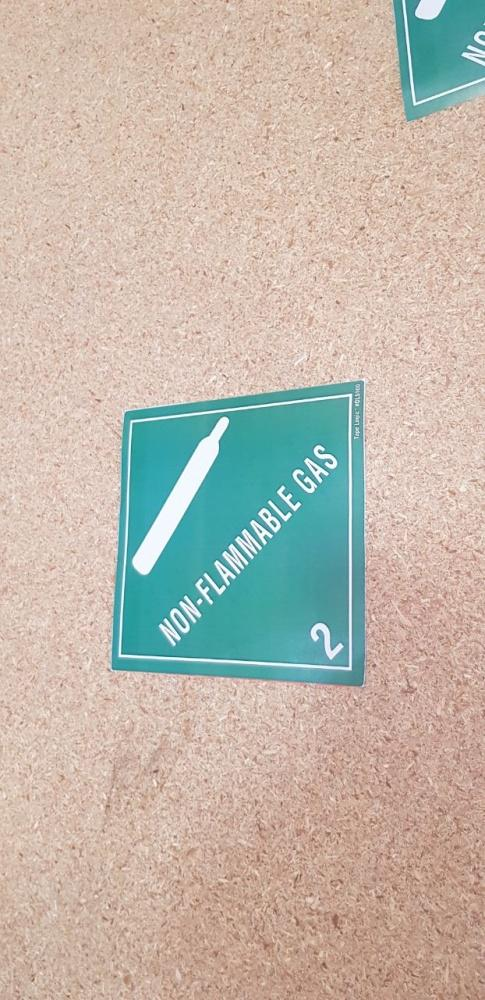non-flammable-gas: (111, 393, 364, 675)
